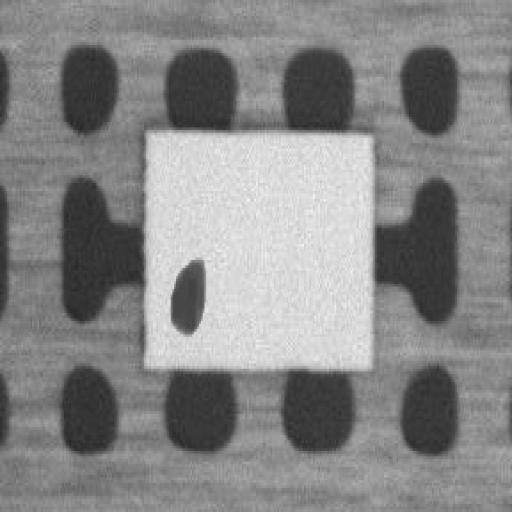DIE_INK: (162, 257, 206, 332)
